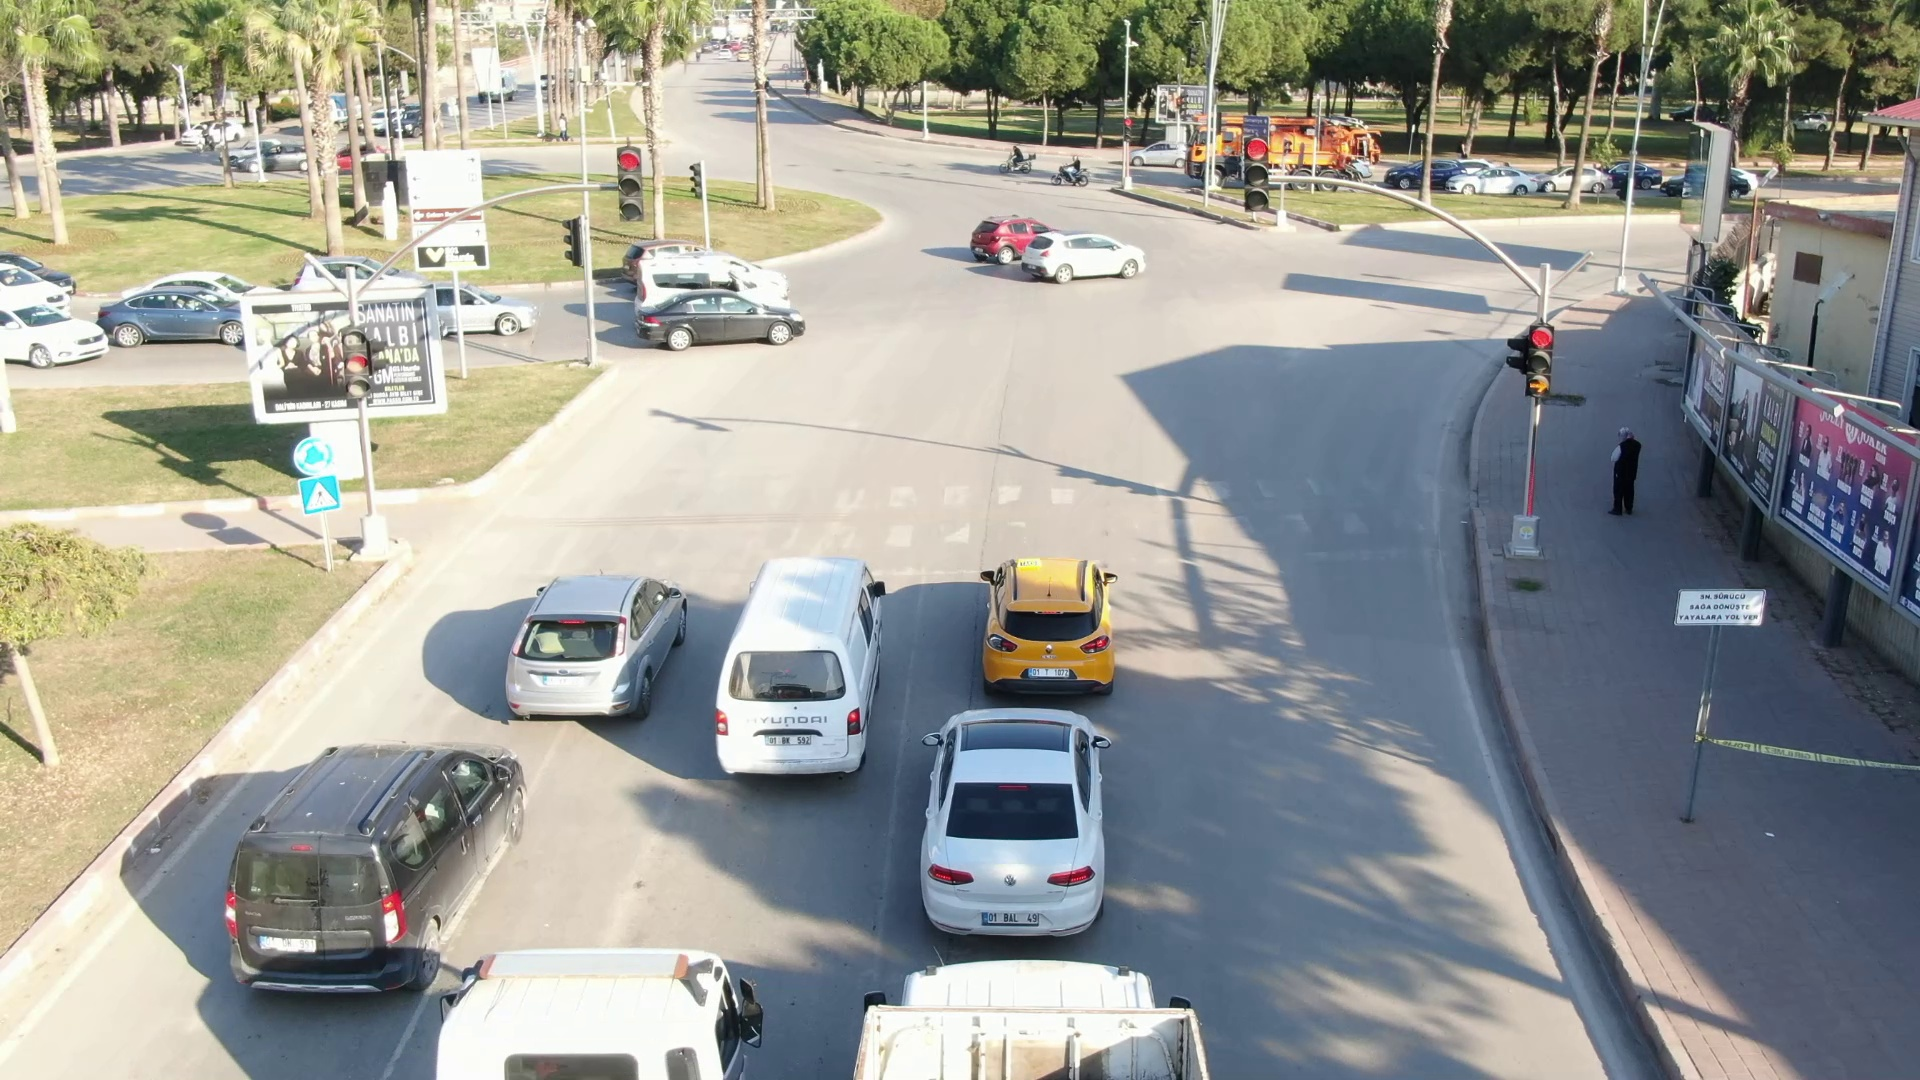car: (190, 749, 553, 992), (680, 565, 914, 790), (915, 706, 1117, 943), (486, 561, 696, 739), (966, 549, 1129, 708), (619, 290, 814, 351), (1017, 231, 1157, 288)
person: (1608, 429, 1647, 523)
